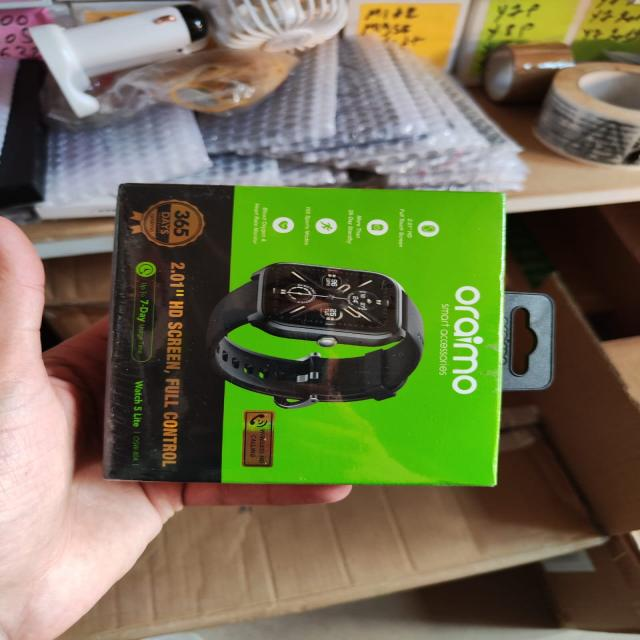Watch 5 Lite OSW-804: (128, 377, 146, 468)
